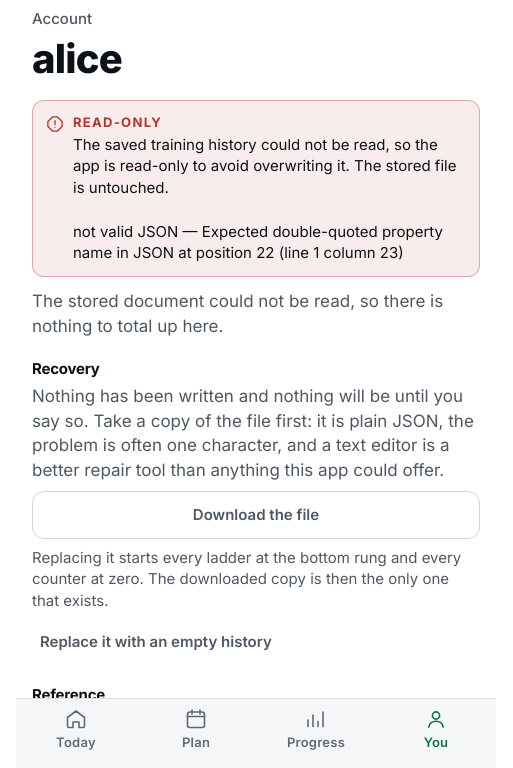
Test: a corrupt document › needs a second, explicit tap before it replaces anything
Click the button "Replace it with an empty history": [156, 642] box [32, 620, 280, 664]
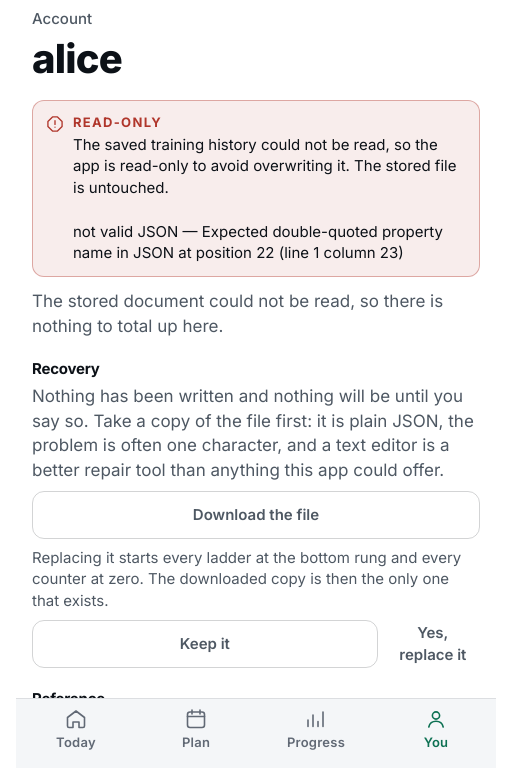
Result: the button "Keep it" is shown
Click the button "Keep it": [205, 644] box [32, 620, 378, 668]
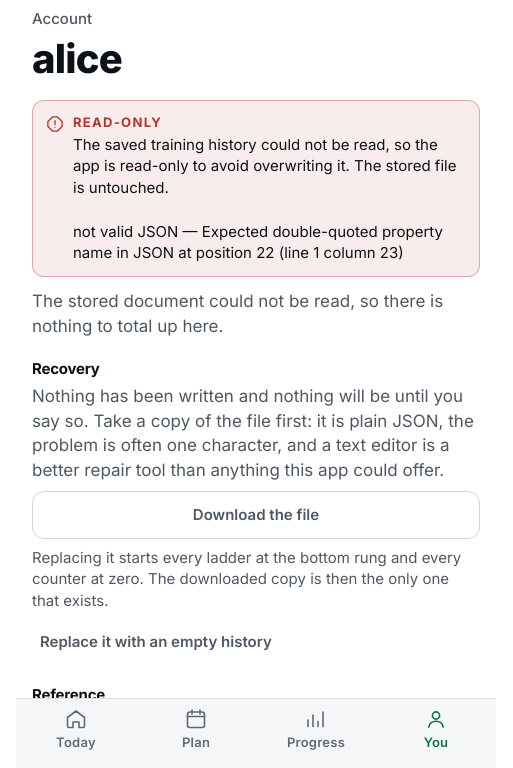
Result: the button "Yes, replace it" is gone
